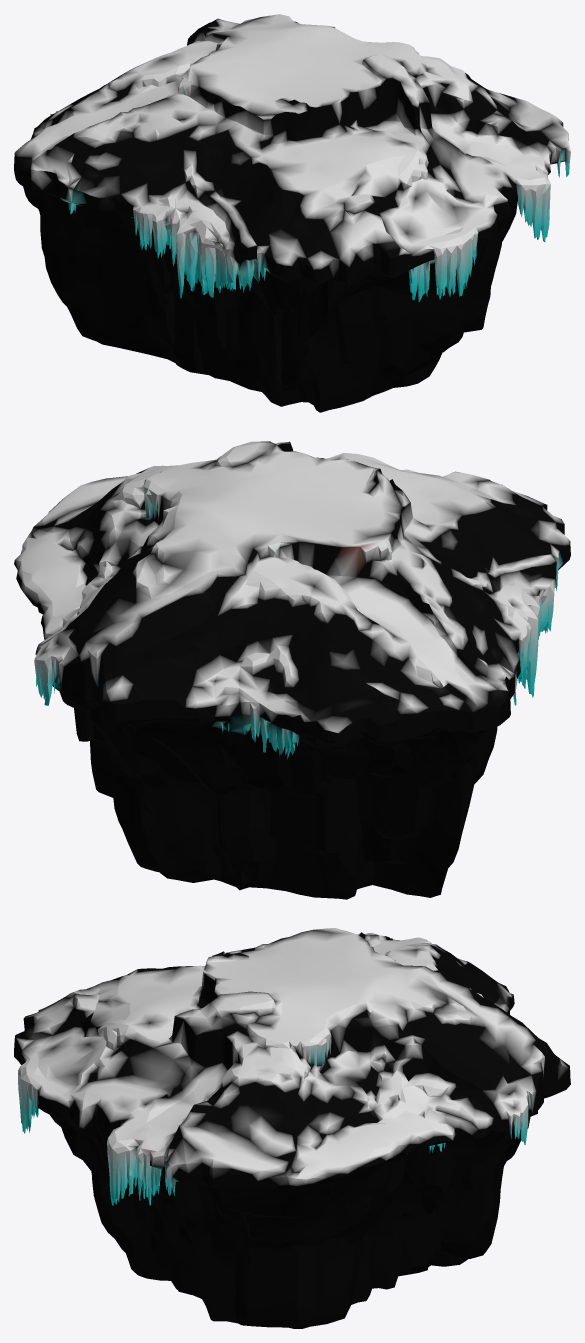
The model's file is CliffIce_2.fbx.
The picture shows the model from 3 angles, top to bottom: view 1: azimuth 30°, elevation 25°; view 2: azimuth 150°, elevation 25°; view 3: azimuth 270°, elevation 25°; orthographic projection. The views are drawn at different scales.
Visible parts, largest first — view 1: CliffIce_2_LOD0; view 2: CliffIce_2_LOD0; view 3: CliffIce_2_LOD0.
Part boxes in pixels (x1,y1,x2,y2): CliffIce_2_LOD0: [14, 14, 570, 412]; CliffIce_2_LOD0: [14, 441, 570, 899]; CliffIce_2_LOD0: [14, 928, 570, 1328].
Size of what is drawn, in the model's own units: 1694 by 977 by 1741.
